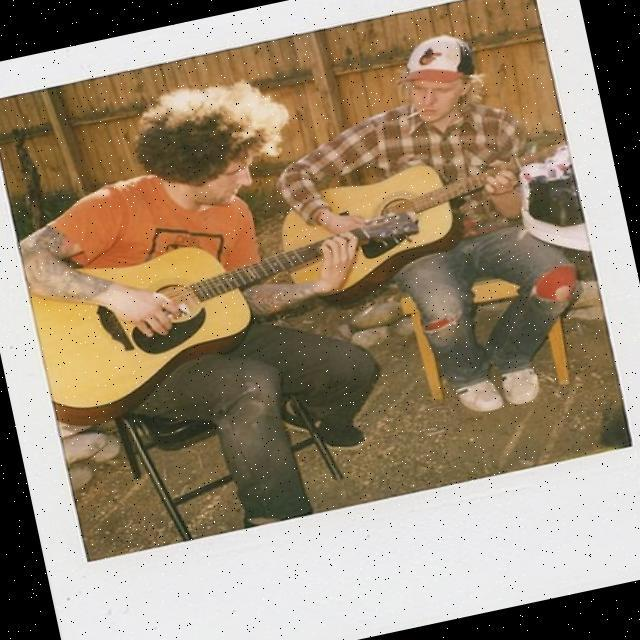acousticguitar: (32, 239, 323, 423), (322, 165, 497, 299)
